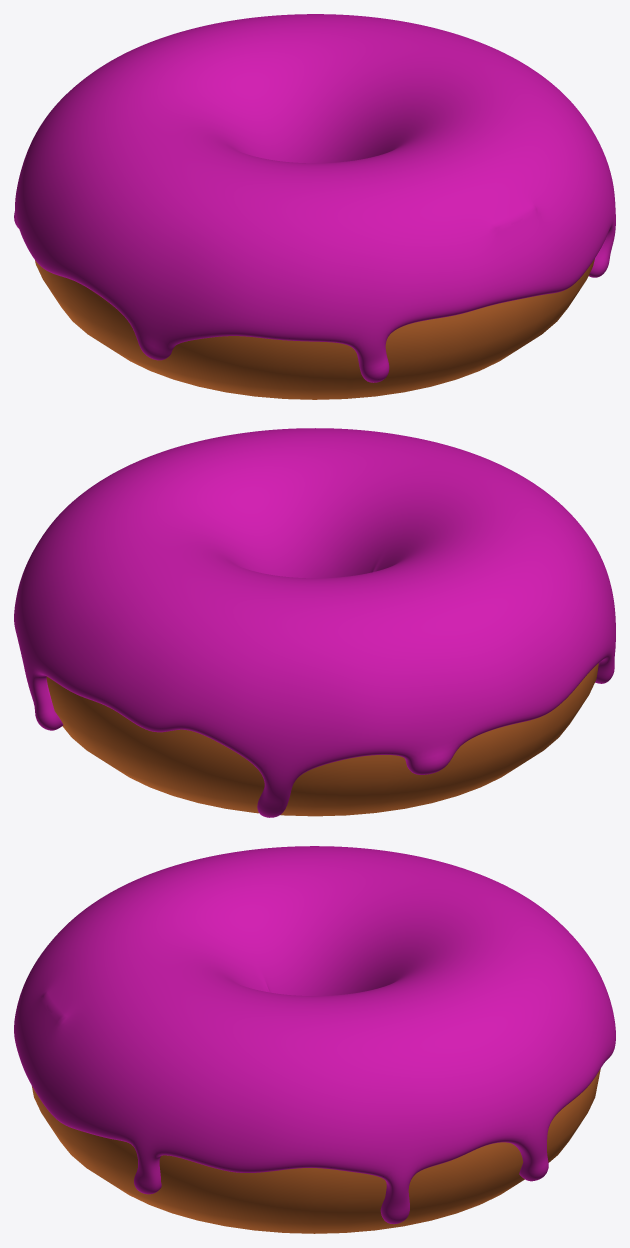
The model's file is donut.obj.
3 views of the same model, one above another, from view 1: azimuth 30°, elevation 25°; view 2: azimuth 150°, elevation 25°; view 3: azimuth 270°, elevation 25° (orthographic).
Parts seen in each view (by area): view 1: toping, Torus.001; view 2: toping, Torus.001; view 3: toping, Torus.001.
Part boxes in pixels (x1=…): toping: x1=14, y1=14, x2=615, y2=382; Torus.001: x1=35, y1=259, x2=594, y2=399; toping: x1=14, y1=428, x2=615, y2=817; Torus.001: x1=46, y1=663, x2=598, y2=816; toping: x1=14, y1=846, x2=615, y2=1224; Torus.001: x1=32, y1=1069, x2=600, y2=1233.
Size of the model in its own units: 3.55 by 1.39 by 3.55.
